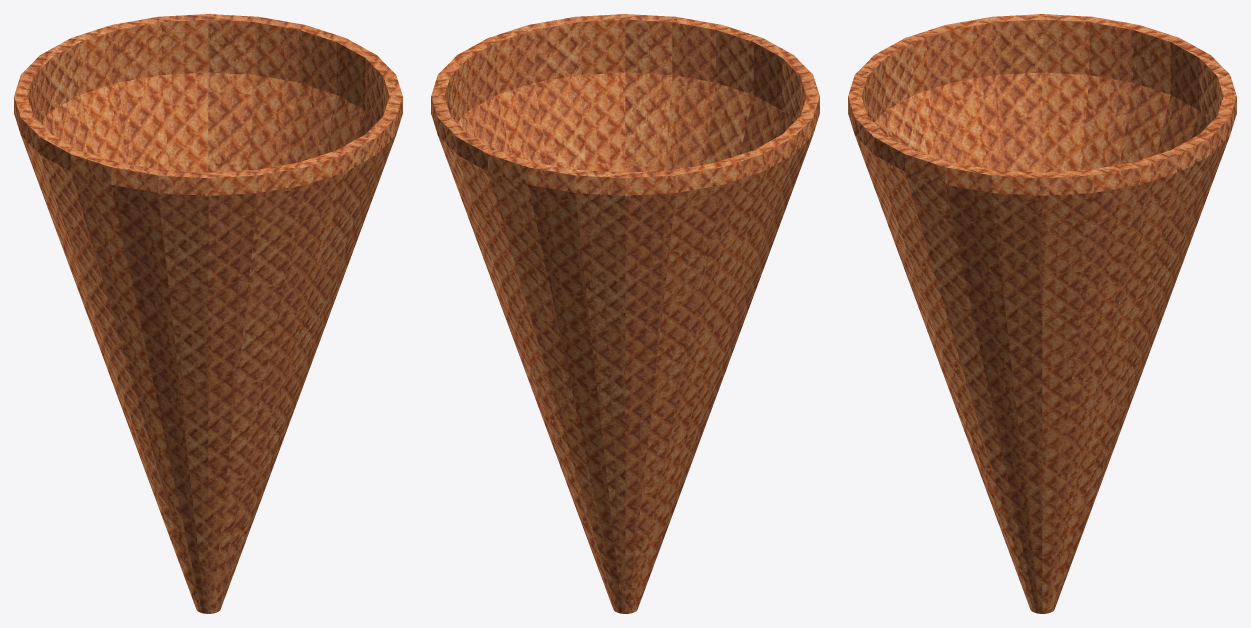
File: waffle_v3.fbx
The picture shows the model from 3 angles, left to right: view 1: azimuth 30°, elevation 25°; view 2: azimuth 150°, elevation 25°; view 3: azimuth 270°, elevation 25°; orthographic projection.
Visible parts, largest first — view 1: Model; view 2: Model; view 3: Model.
Boxes of the visible parts, x1,y1,x2,y2 form: Model: [14, 14, 402, 613]; Model: [431, 14, 819, 613]; Model: [848, 14, 1236, 613].
Bounding box in the file's own units: 7.87 × 11.46 × 7.87.
Materials: 1 (1 with a texture image).
